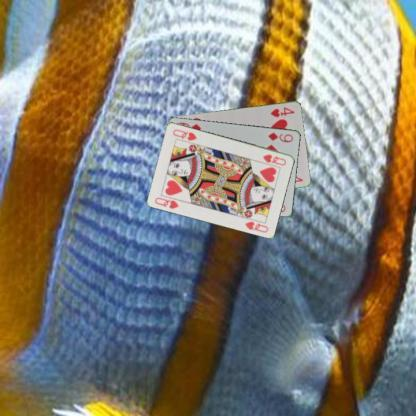4h: (268, 104, 296, 118)
9d: (266, 130, 295, 144)
Qh: (152, 194, 180, 210), (260, 152, 288, 166)
